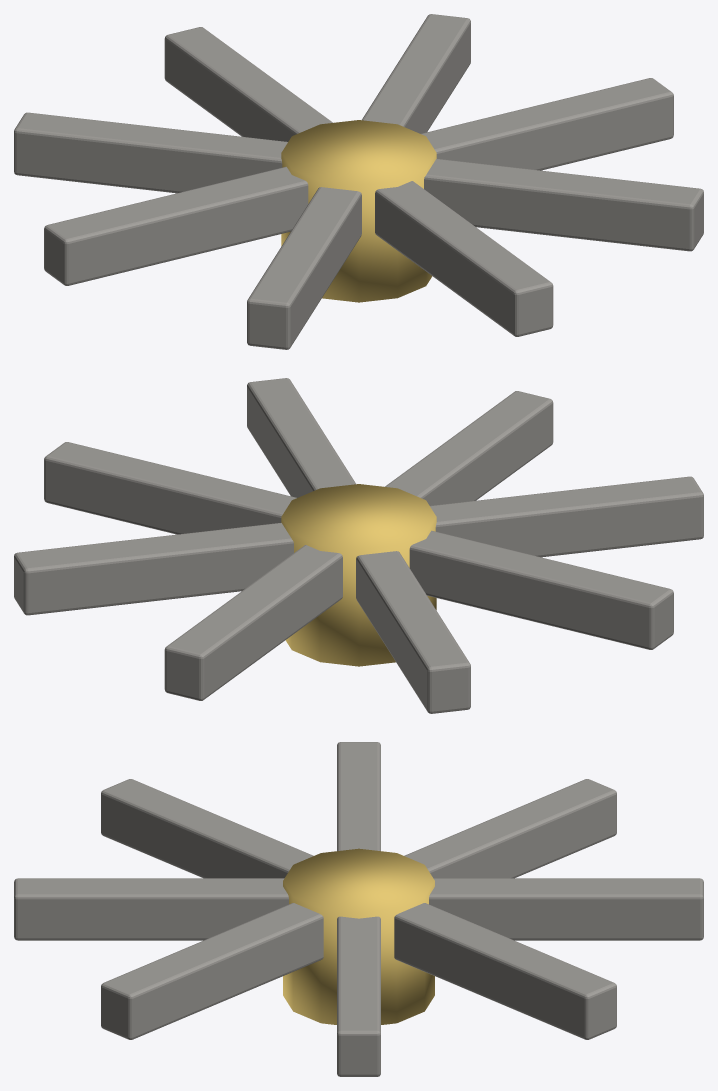
Rendered from ceiling_vault_star_boss.glb.
The picture shows the model from 3 angles, top to bottom: view 1: azimuth 30°, elevation 25°; view 2: azimuth 150°, elevation 25°; view 3: azimuth 270°, elevation 25°; orthographic projection. The views are drawn at different scales.
Parts seen in each view (by area): view 1: GD_ceiling_vault_star_boss__m0, GD_ceiling_vault_star_boss__m1; view 2: GD_ceiling_vault_star_boss__m0, GD_ceiling_vault_star_boss__m1; view 3: GD_ceiling_vault_star_boss__m0, GD_ceiling_vault_star_boss__m1.
Part boxes in pixels (x1,y1,x2,y2): GD_ceiling_vault_star_boss__m0: (14, 14, 703, 349); GD_ceiling_vault_star_boss__m1: (281, 120, 436, 302); GD_ceiling_vault_star_boss__m0: (14, 378, 703, 713); GD_ceiling_vault_star_boss__m1: (281, 484, 436, 666); GD_ceiling_vault_star_boss__m0: (14, 742, 703, 1076); GD_ceiling_vault_star_boss__m1: (283, 848, 434, 1024).
Size of the model in its own units: 1.09 by 0.2 by 1.09.
